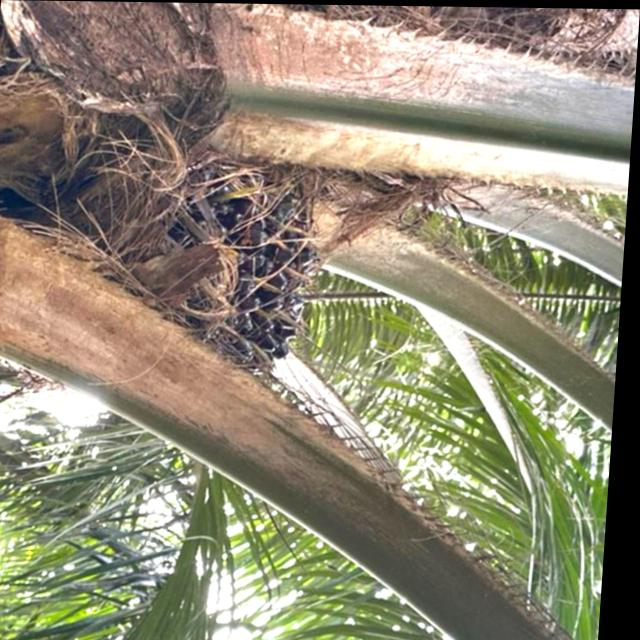almost: (127, 165, 346, 396)
